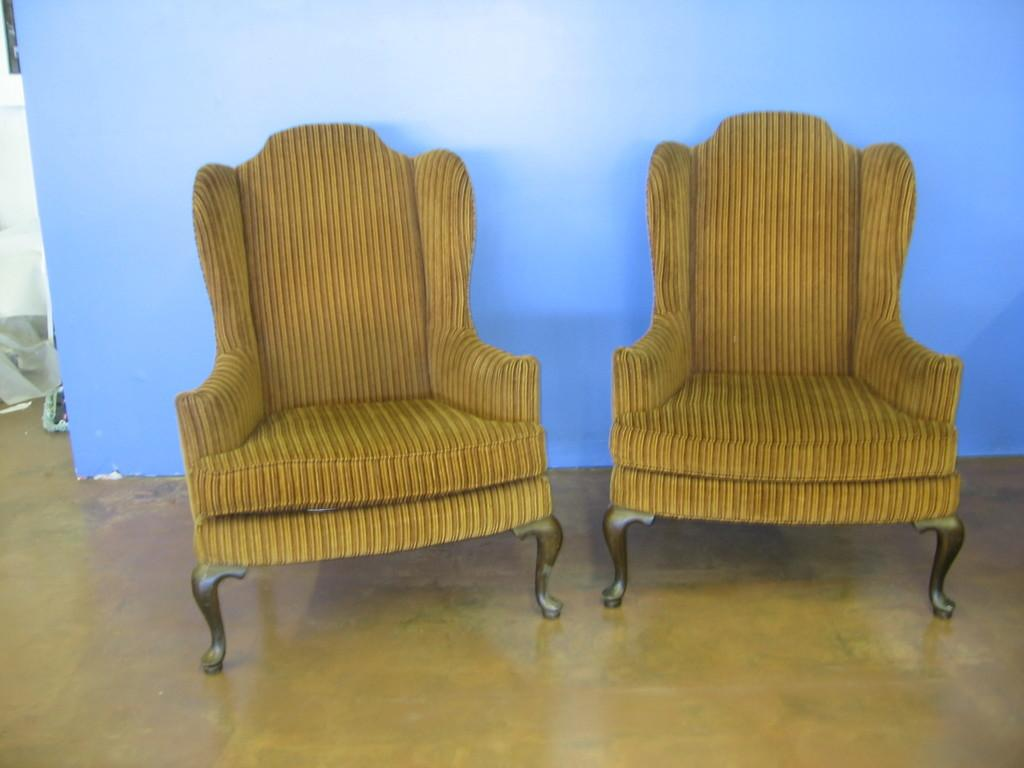Chair: (168, 117, 570, 675), (594, 109, 959, 623)
